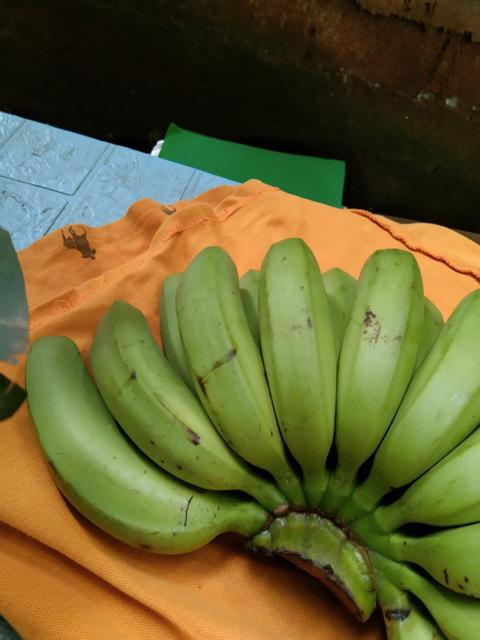freshunripe: (20, 326, 210, 560), (248, 229, 338, 475), (377, 283, 479, 481), (398, 435, 479, 524)
